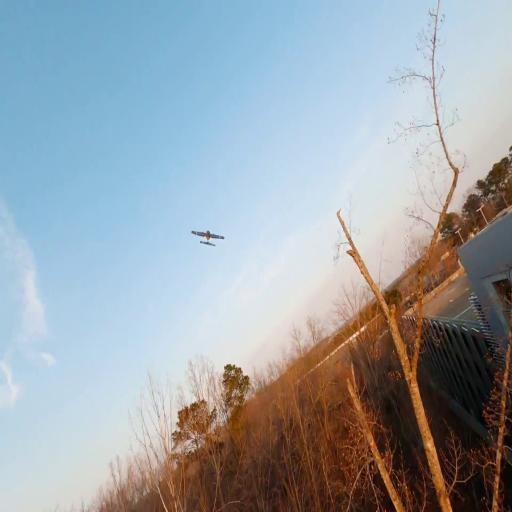uav: (190, 224, 228, 251)
